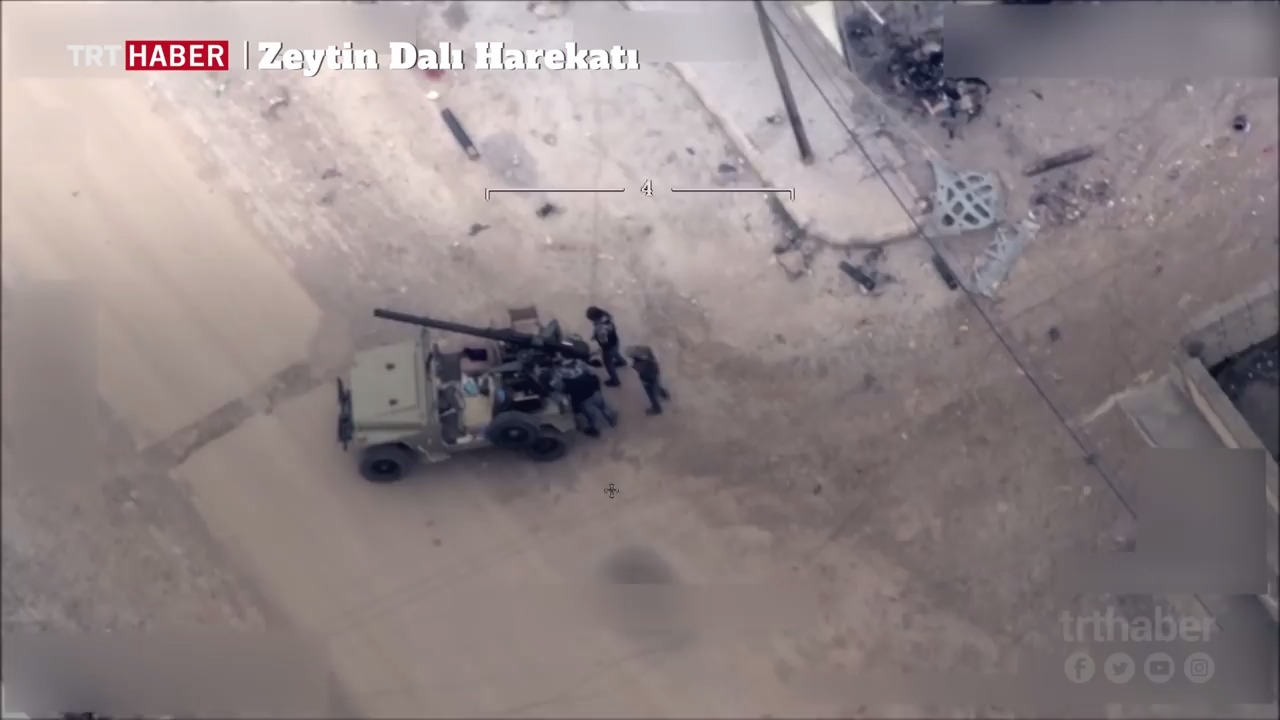arac: (322, 308, 589, 487)
insan: (552, 350, 604, 438), (594, 299, 631, 378), (630, 337, 660, 423)
